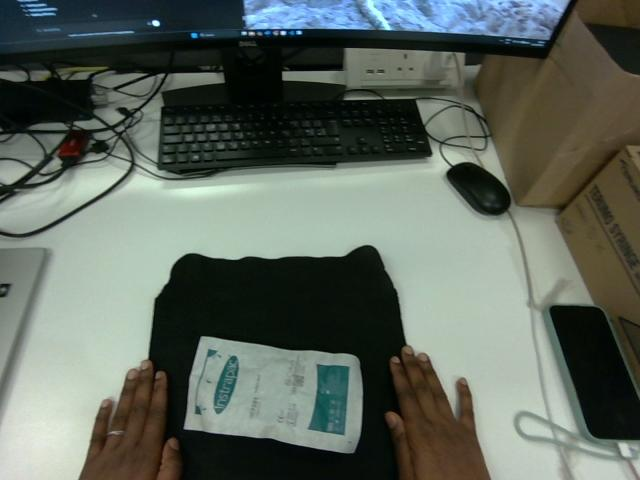gallipot: (184, 337, 362, 452)
